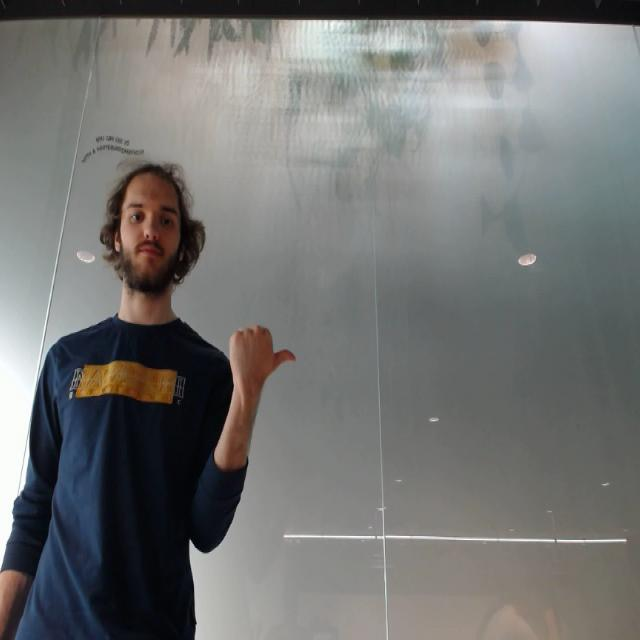right: (222, 320, 302, 390)
